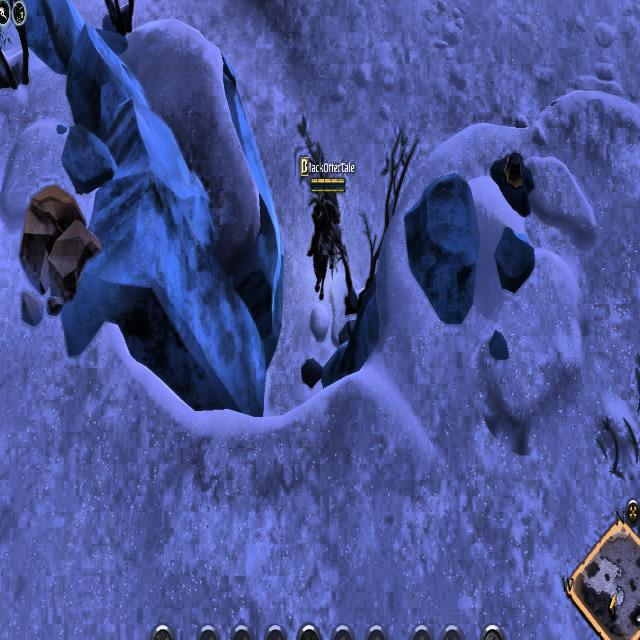copperore: (490, 145, 535, 209)
limestone: (18, 183, 104, 334)
